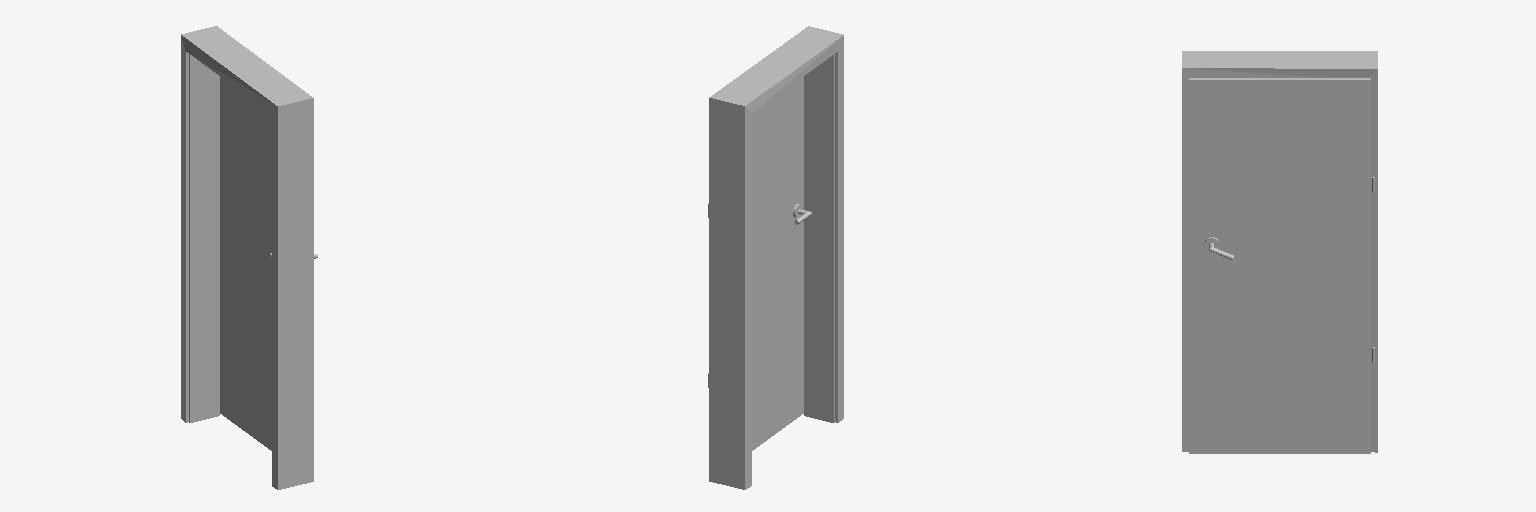
The model's file is door66.obj.
3 views of the same model, side by side, from view 1: azimuth 30°, elevation 25°; view 2: azimuth 150°, elevation 25°; view 3: azimuth 270°, elevation 25° (orthographic).
Parts seen in each view (by area): view 1: Cylinder.005, Cylinder.001; view 2: Cylinder.005, Cylinder.001; view 3: Cylinder.001, Cylinder.005.
Boxes of the visible parts, x1=… form: Cylinder.005: x1=181, y1=26, x2=313, y2=489; Cylinder.001: x1=220, y1=77, x2=271, y2=450; Cylinder.005: x1=708, y1=26, x2=843, y2=489; Cylinder.001: x1=708, y1=77, x2=803, y2=450; Cylinder.001: x1=1189, y1=78, x2=1374, y2=453; Cylinder.005: x1=1182, y1=51, x2=1377, y2=452.
Bounding box in the file's own units: 0.3039 × 2.05 × 0.95.